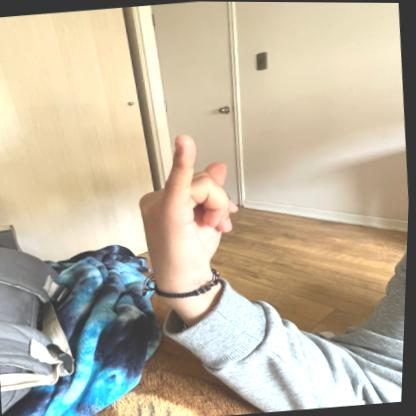I: (127, 124, 253, 298)
